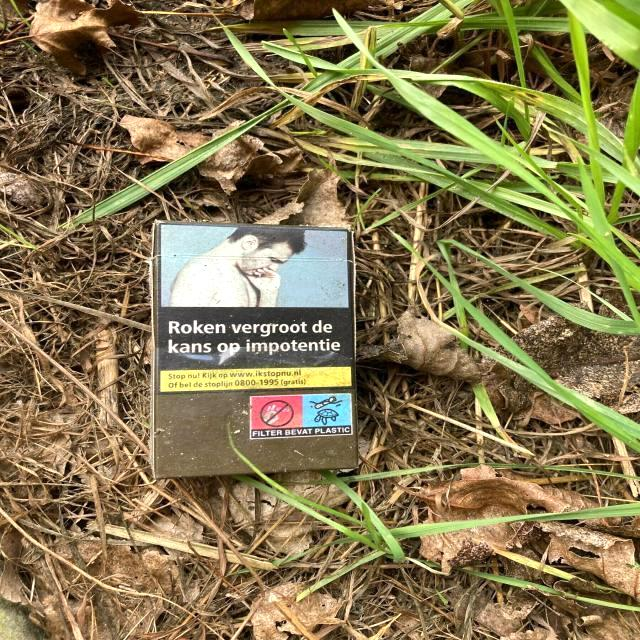Paper: (142, 216, 366, 484)
